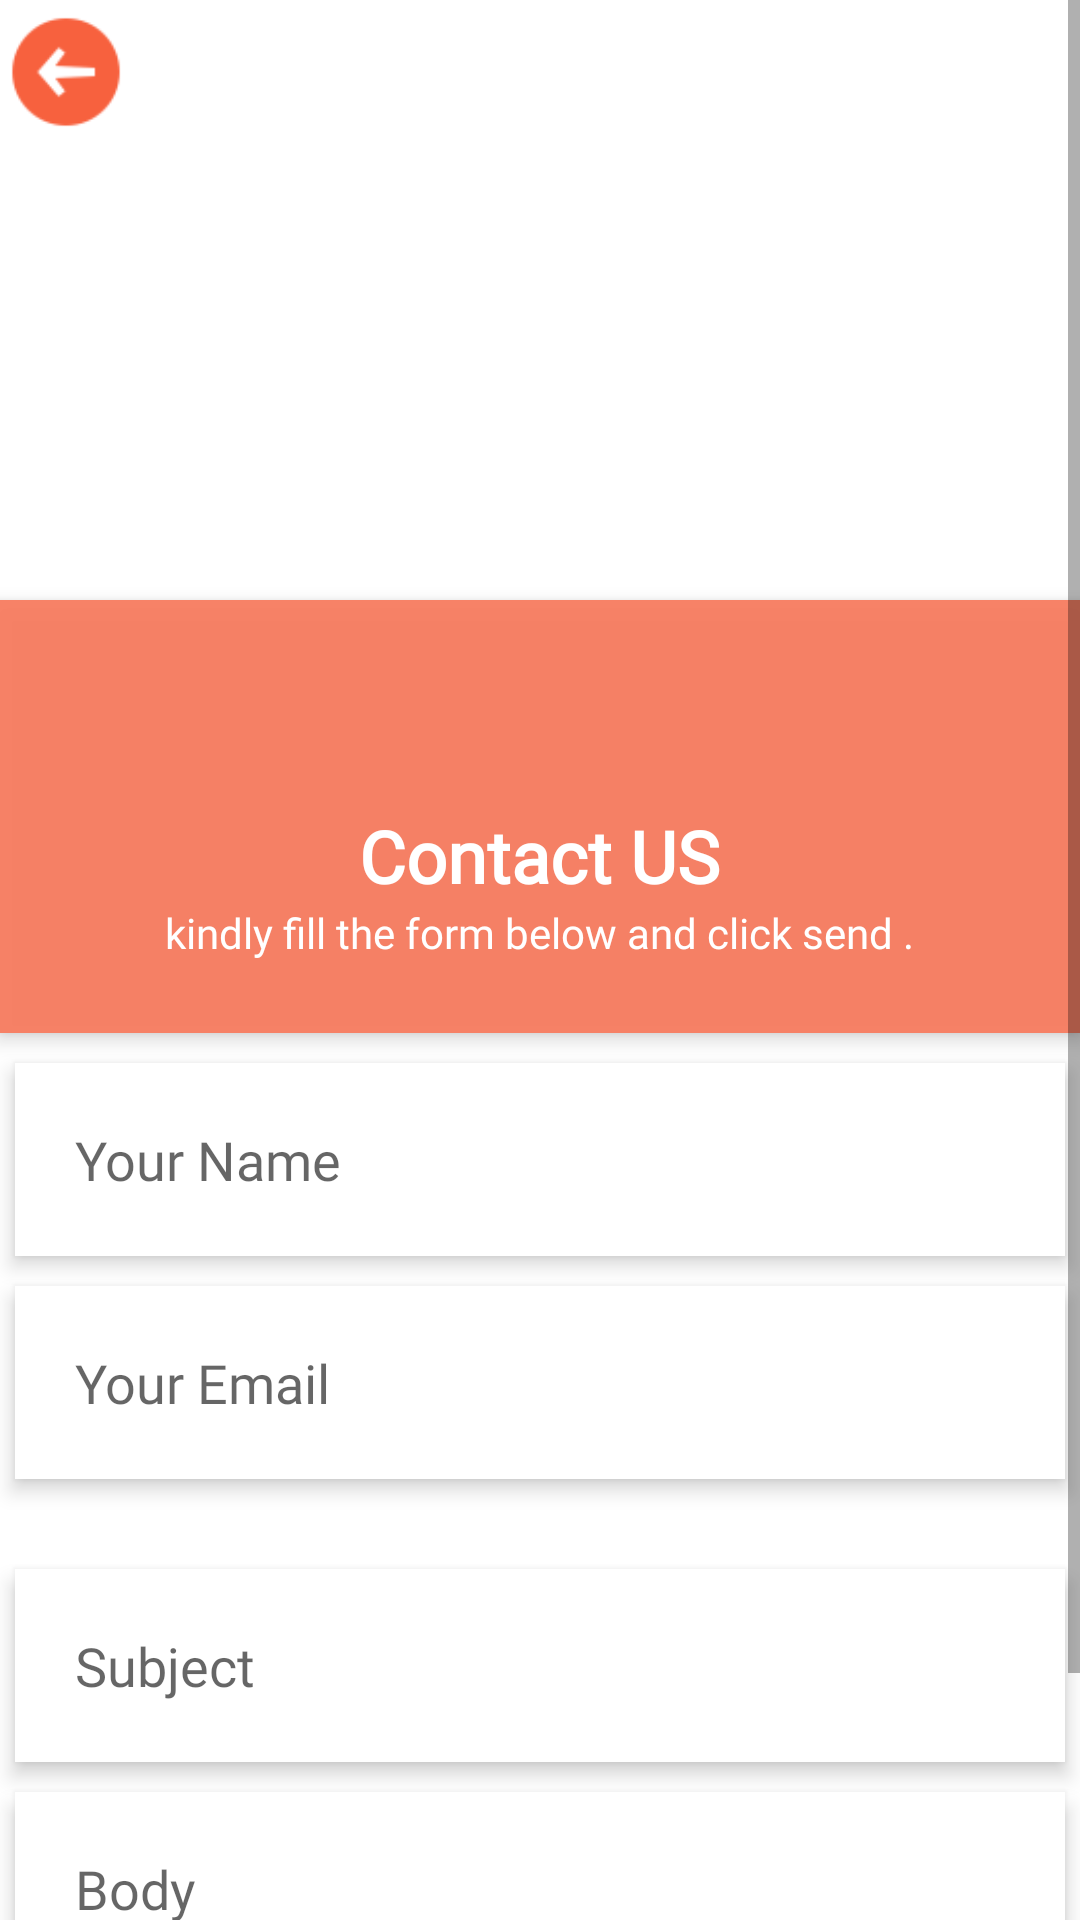

Screen size 1080×1920. Icon name, then its box in pixels as (x1, y1, x2, y2):
back: (12, 18, 120, 126)
